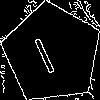I: (27, 28, 58, 75)
